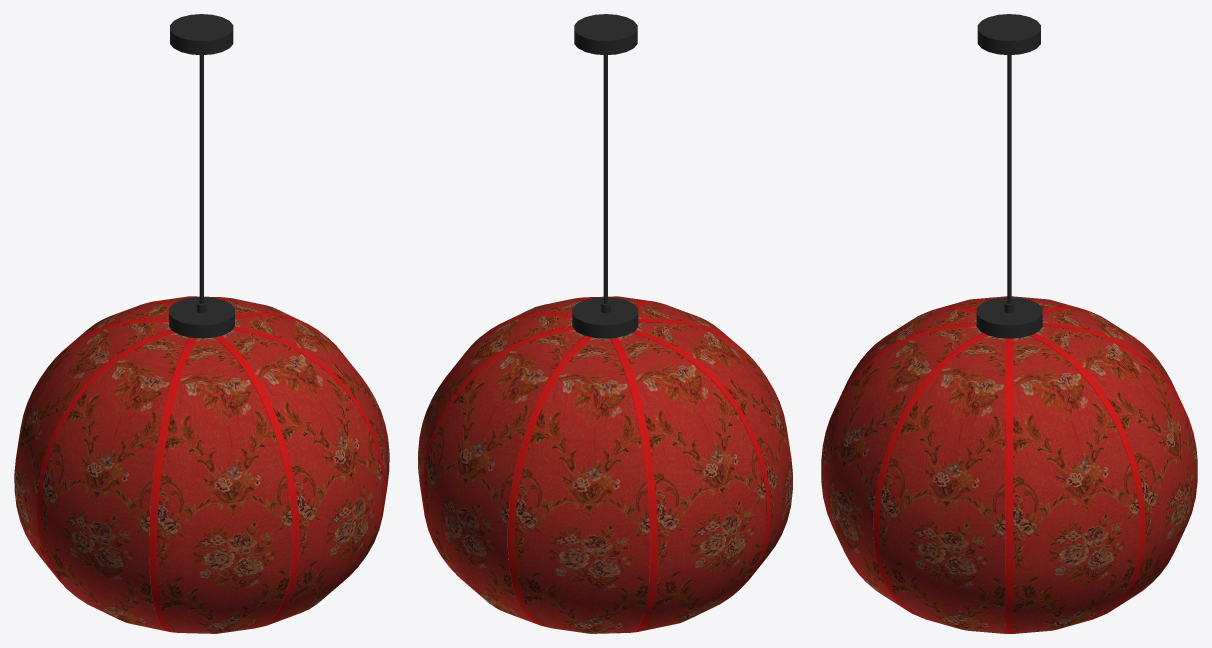
Rendered from Ceiling Lamp 24.FBX.
The picture shows the model from 3 angles, left to right: view 1: azimuth 30°, elevation 25°; view 2: azimuth 150°, elevation 25°; view 3: azimuth 270°, elevation 25°; orthographic projection.
Parts seen in each view (by area): view 1: ceiling lamp 24; view 2: ceiling lamp 24; view 3: ceiling lamp 24.
Part boxes in pixels (box(x1,y1,x2,y2)): ceiling lamp 24: box(14, 14, 389, 633); ceiling lamp 24: box(418, 14, 792, 633); ceiling lamp 24: box(821, 14, 1197, 633).
Size of the model in its own units: 48.24 by 82.13 by 48.24.
3 materials, 3 textured.
